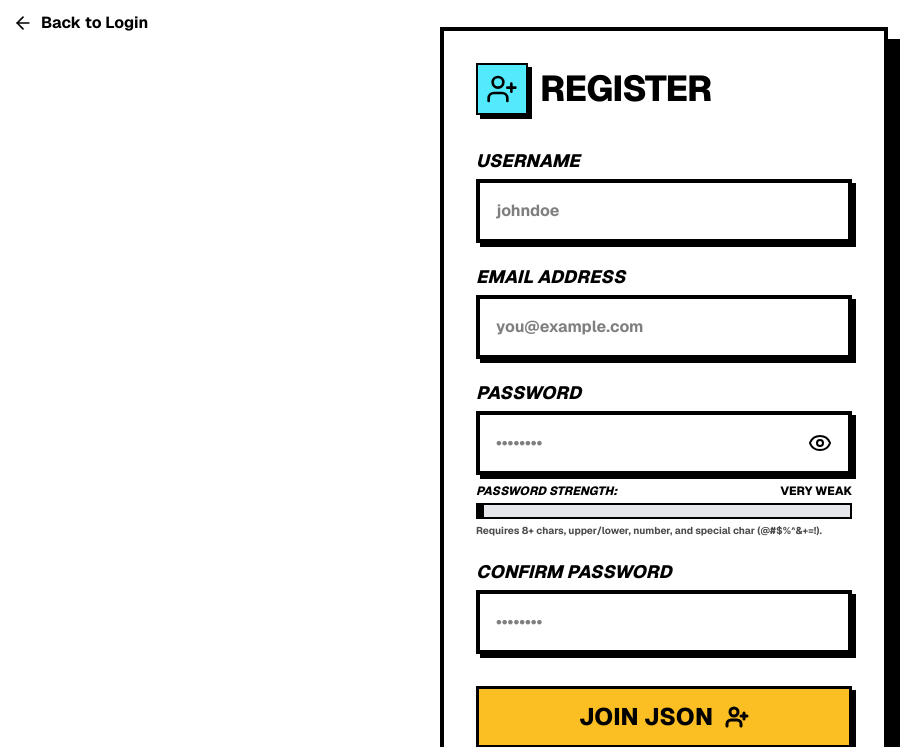
Scenario: Authentication Pages › RegisterPage › handles registration failure with object error
In the field with placeholder "johndoe": (664, 211) [476,179,852,243], type "testuser"
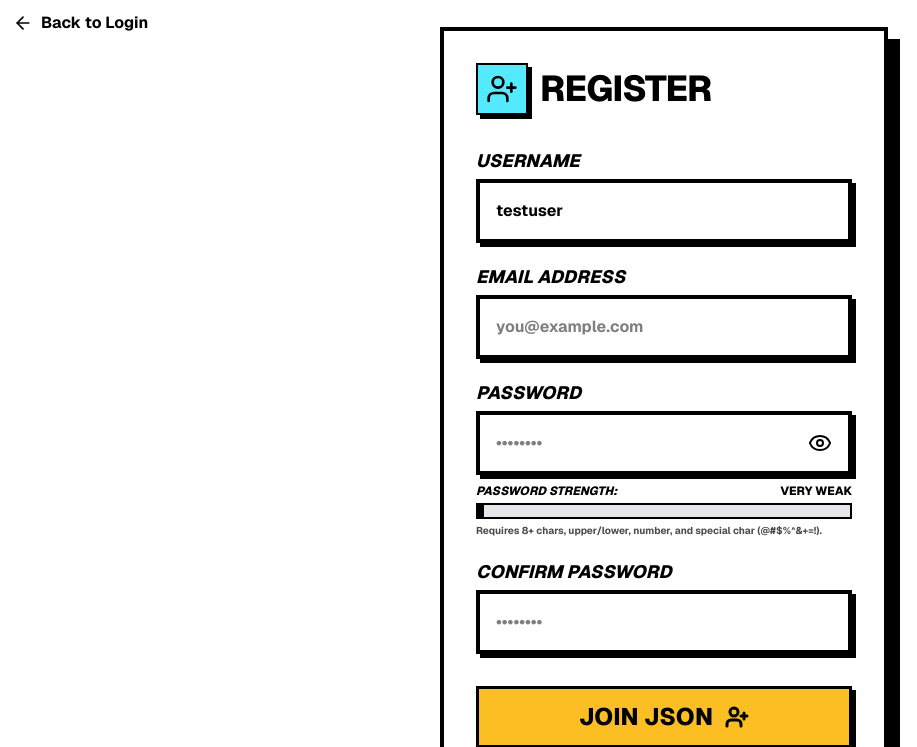
In the field with placeholder "you@example.com": (664, 327) [476,295,852,359], type "test@example.com"
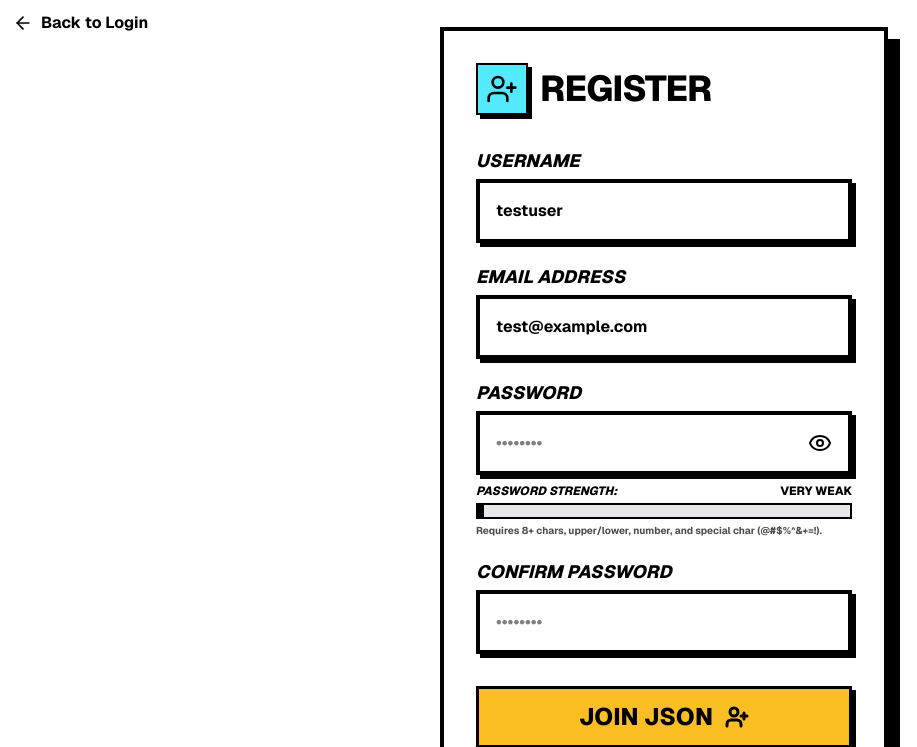
In the password field with placeholder "••••••••": (664, 443) [476,411,852,475], type "Password123!"
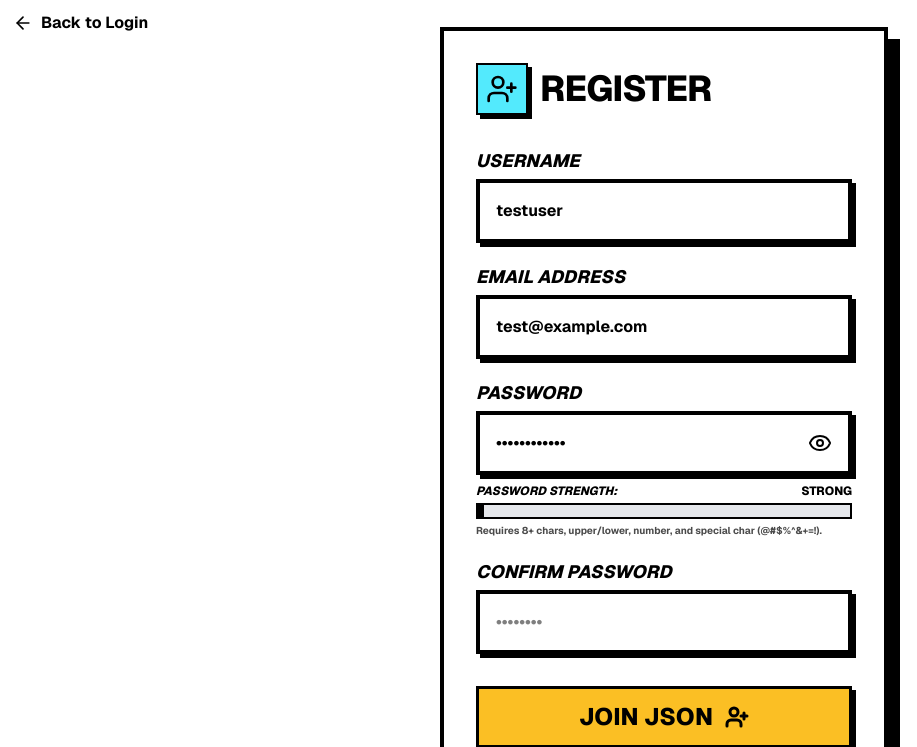
In the password field with placeholder "••••••••": (664, 622) [476,590,852,654], type "Password123!"
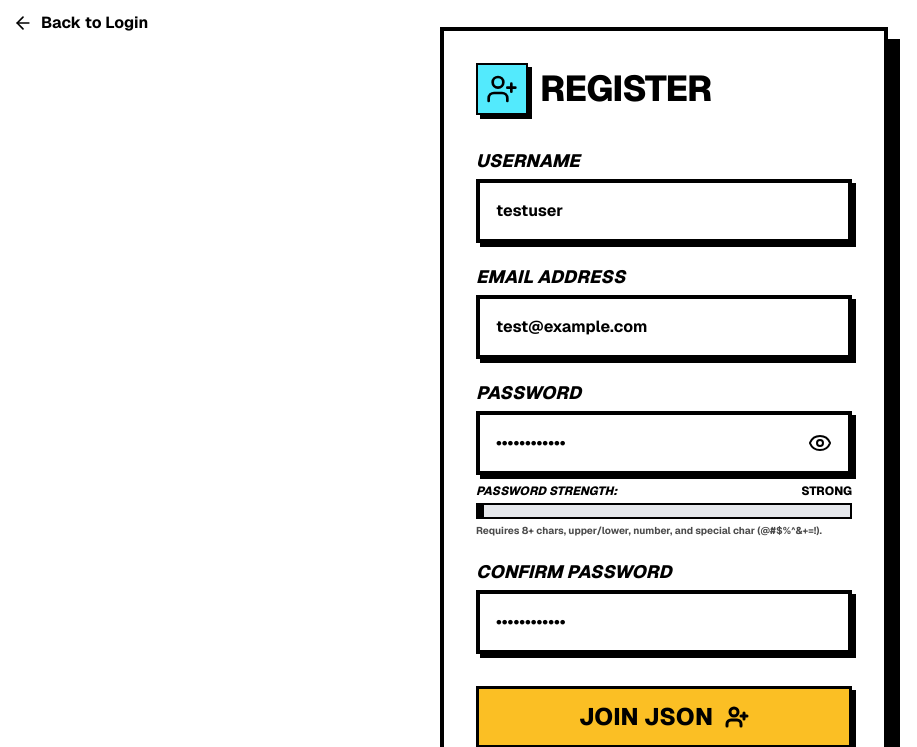
Click the button "Join JSON": (664, 717) [476,686,852,746]
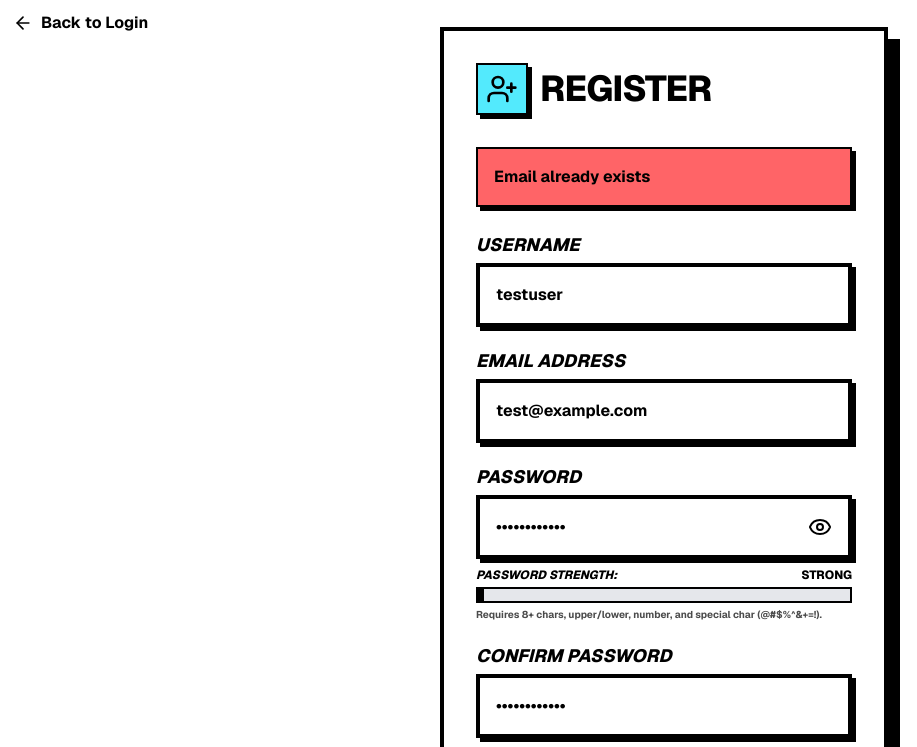
Result: the text "Email already exists" is shown at [476,147,852,207]
